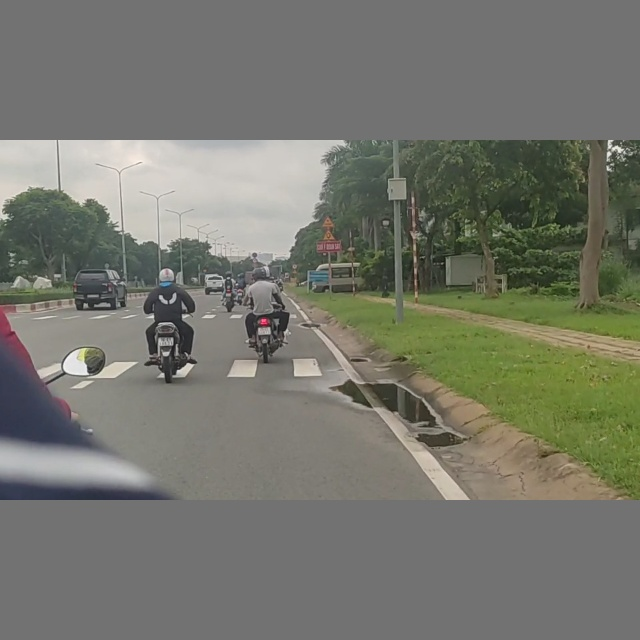P.130: (252, 252, 257, 257)
W.245a: (322, 216, 335, 227)
W.246a: (323, 230, 337, 241)
